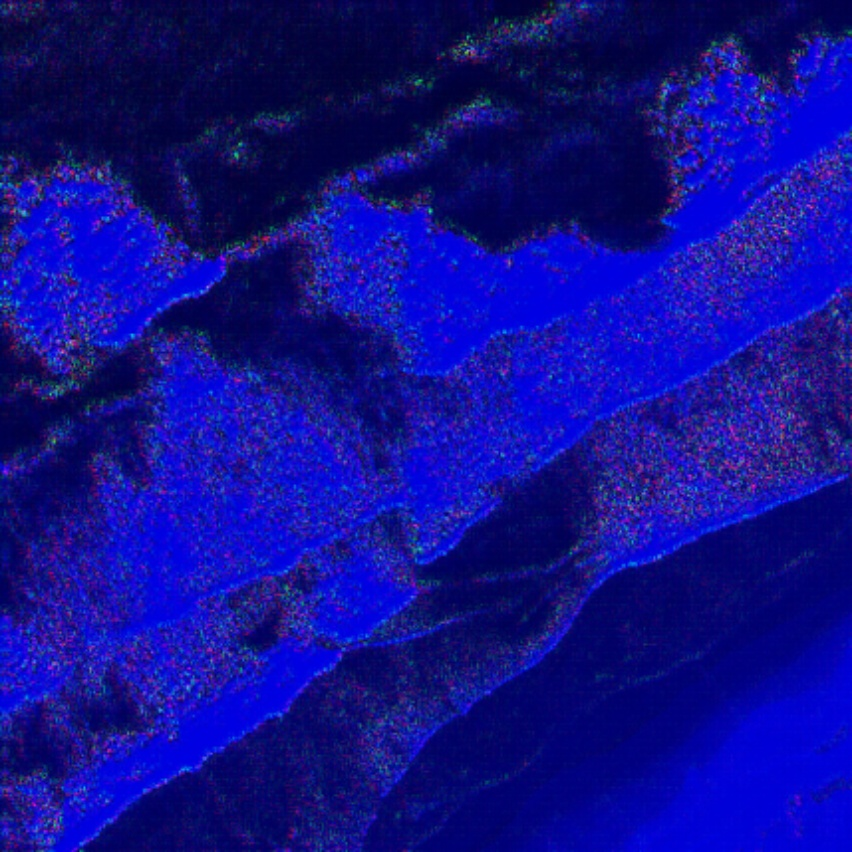rip_current: (131, 204, 458, 547)
